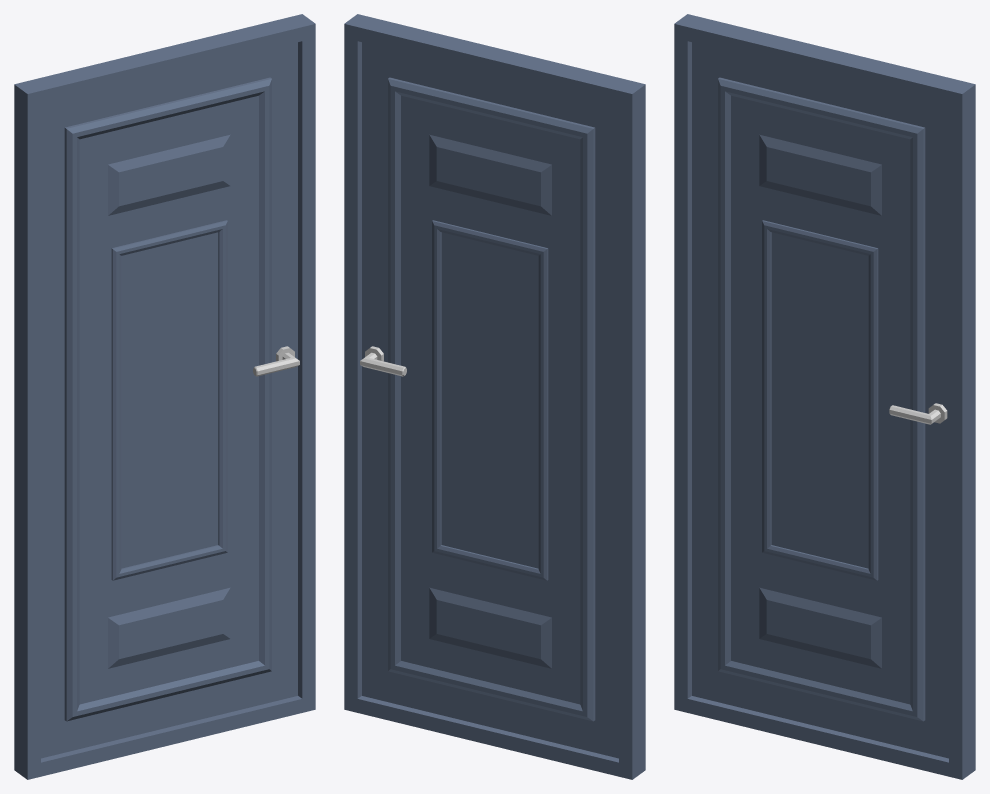
The model's file is Mesh_Door_C11.fbx.
3 views of the same model, side by side, from view 1: azimuth 30°, elevation 25°; view 2: azimuth 150°, elevation 25°; view 3: azimuth 330°, elevation 25° (orthographic).
Parts seen in each view (by area): view 1: Mesh_Door_C11; view 2: Mesh_Door_C11; view 3: Mesh_Door_C11.
Part boxes in pixels (box(x1,y1,x2,y2)): Mesh_Door_C11: box(14, 14, 315, 779); Mesh_Door_C11: box(344, 14, 645, 779); Mesh_Door_C11: box(674, 14, 975, 779).
Bounding box in the file's own units: 0.9 × 2.05 × 0.1524.
